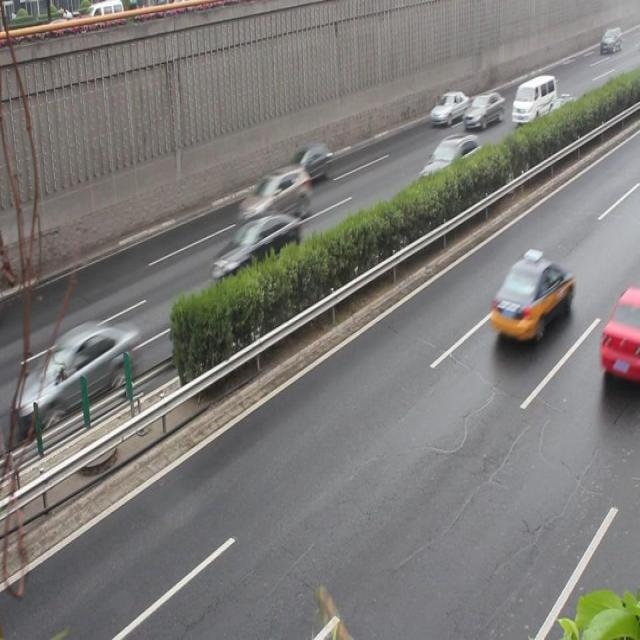car: (28, 322, 138, 408), (490, 251, 571, 344), (210, 213, 299, 284), (236, 165, 309, 225), (596, 287, 640, 383), (416, 134, 482, 190), (280, 141, 330, 184), (428, 90, 468, 128), (462, 91, 503, 128), (541, 94, 577, 128)
truck: (510, 74, 556, 122)
